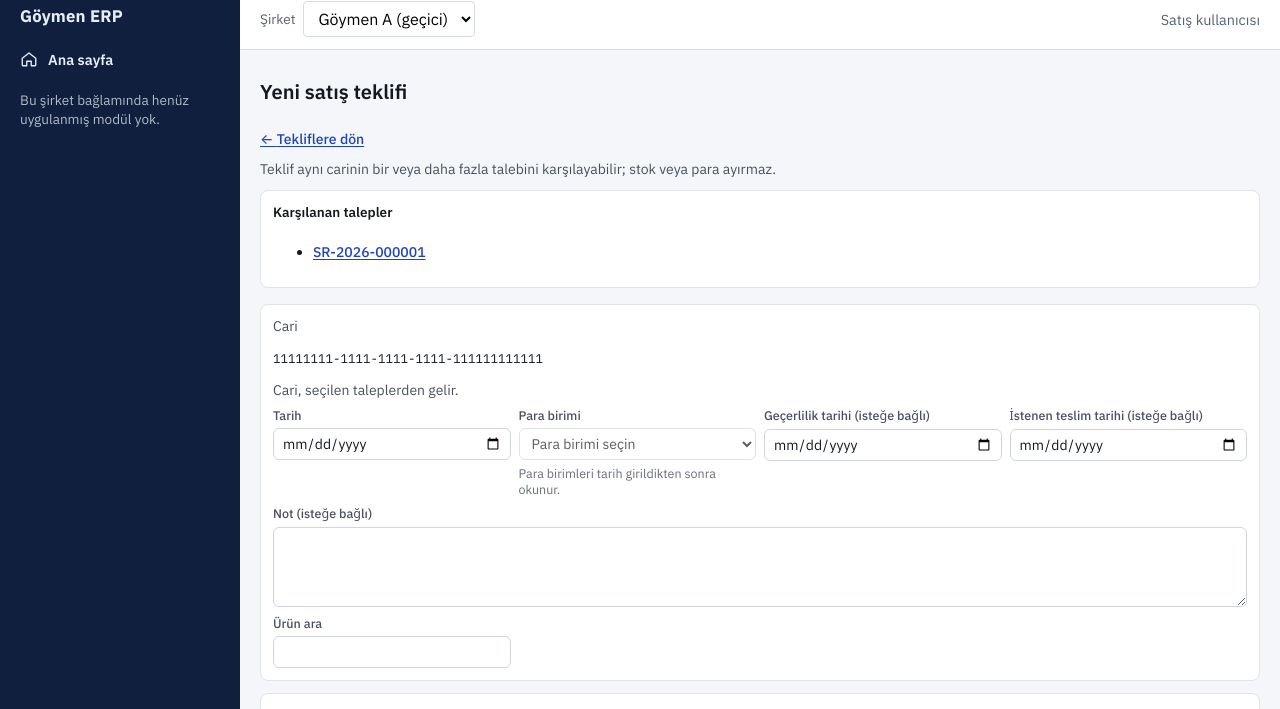
Scenario: Yeni teklif › covers the chosen request: its lines are copied, the customer is fixed, prices are added and requestIds sent
The image size is (1280, 709).
Expected: the list with test id "pool-quote-covered-requests" is shown, [313,243,426,261]
Step 1. Type "2026-10-22" into the date field labelled "Tarih" → (392, 444), box [273,428,510,460]
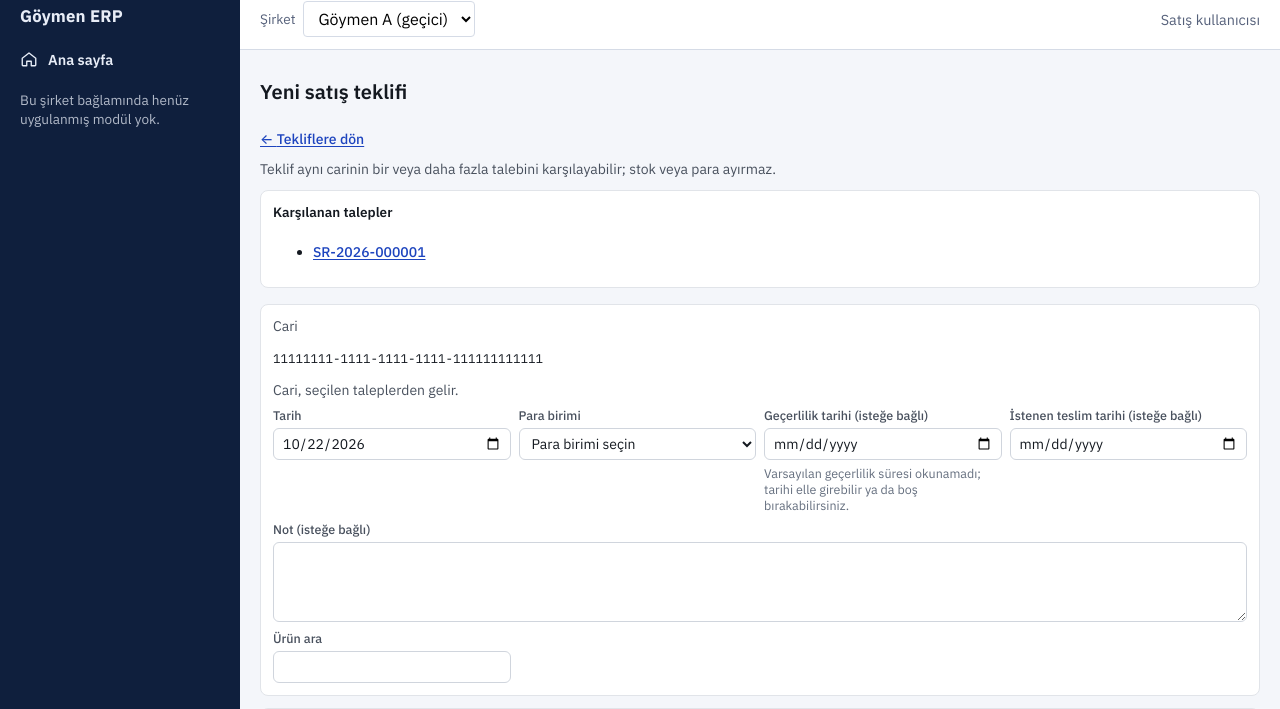
Step 2. Select "TRY" in the dropdown labelled "Para birimi" → (637, 444), box [518,428,756,460]
(page scrolled)
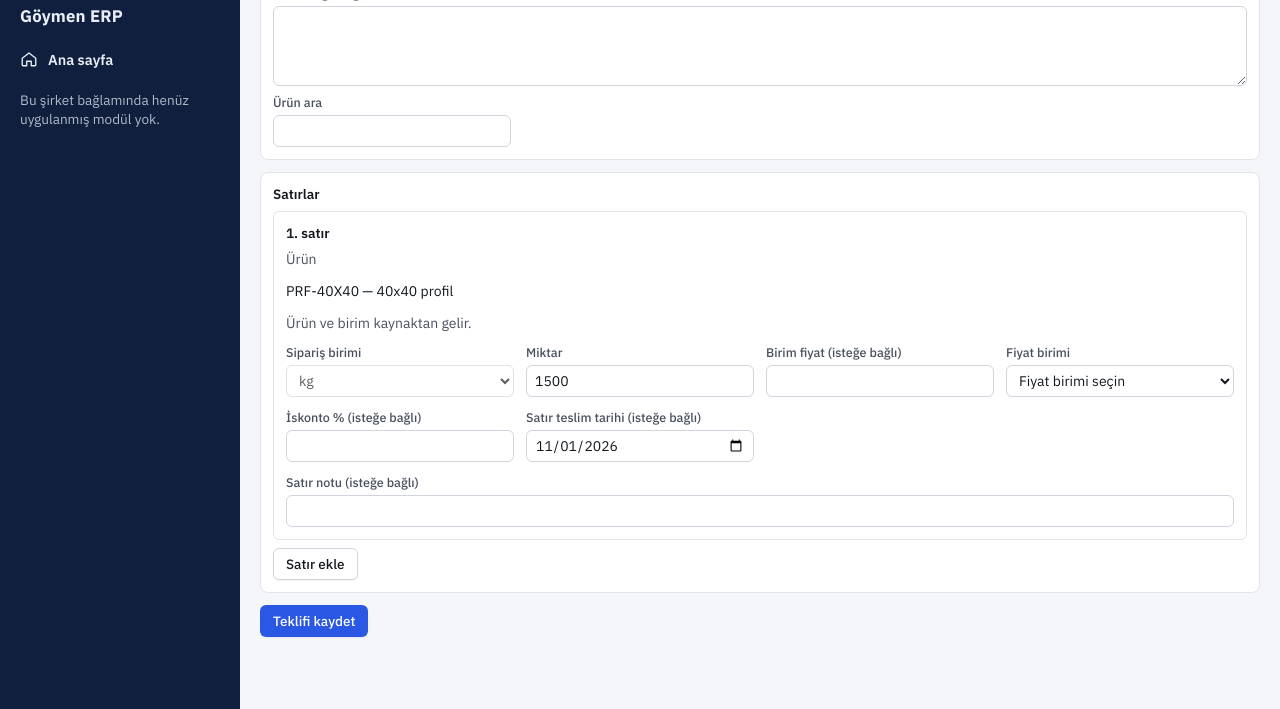
Step 3. Type "42,5" into the field labelled "Birim fiyat (isteğe bağlı)" → (880, 381), box [766,365,994,397]
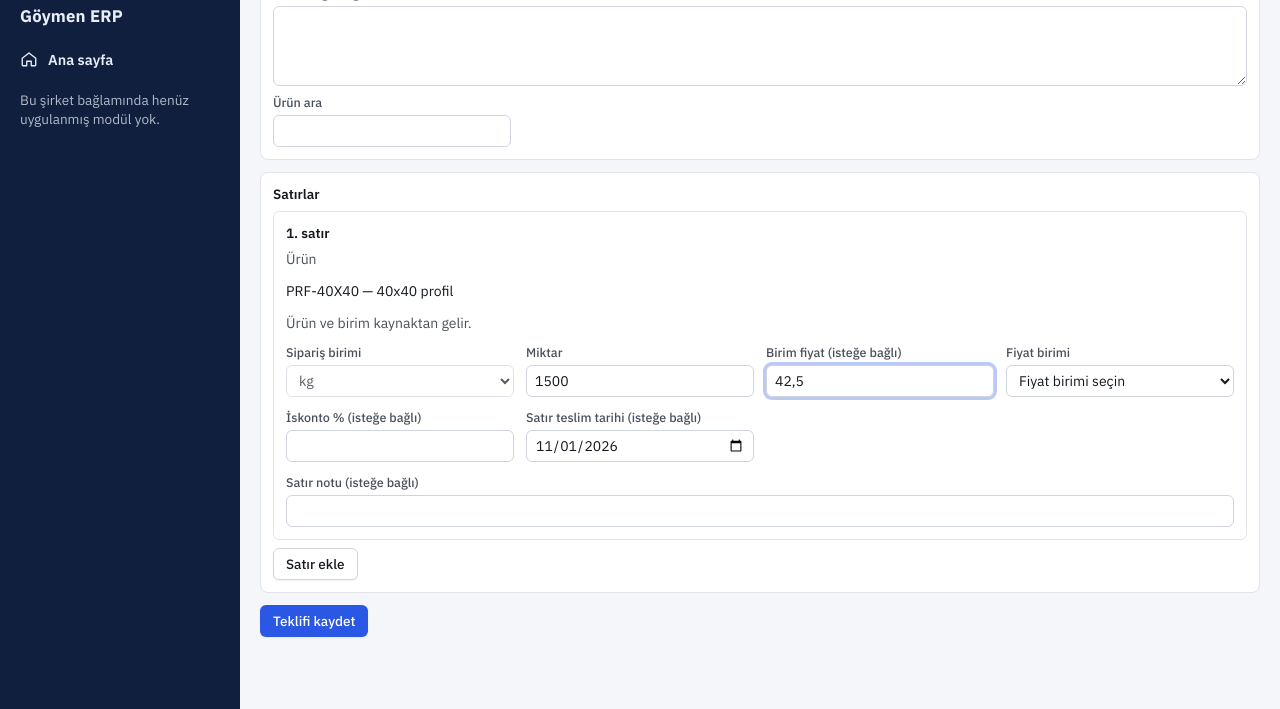
Step 4. Select "kg" in the dropdown labelled "Fiyat birimi" → (1120, 381), box [1006,365,1234,397]
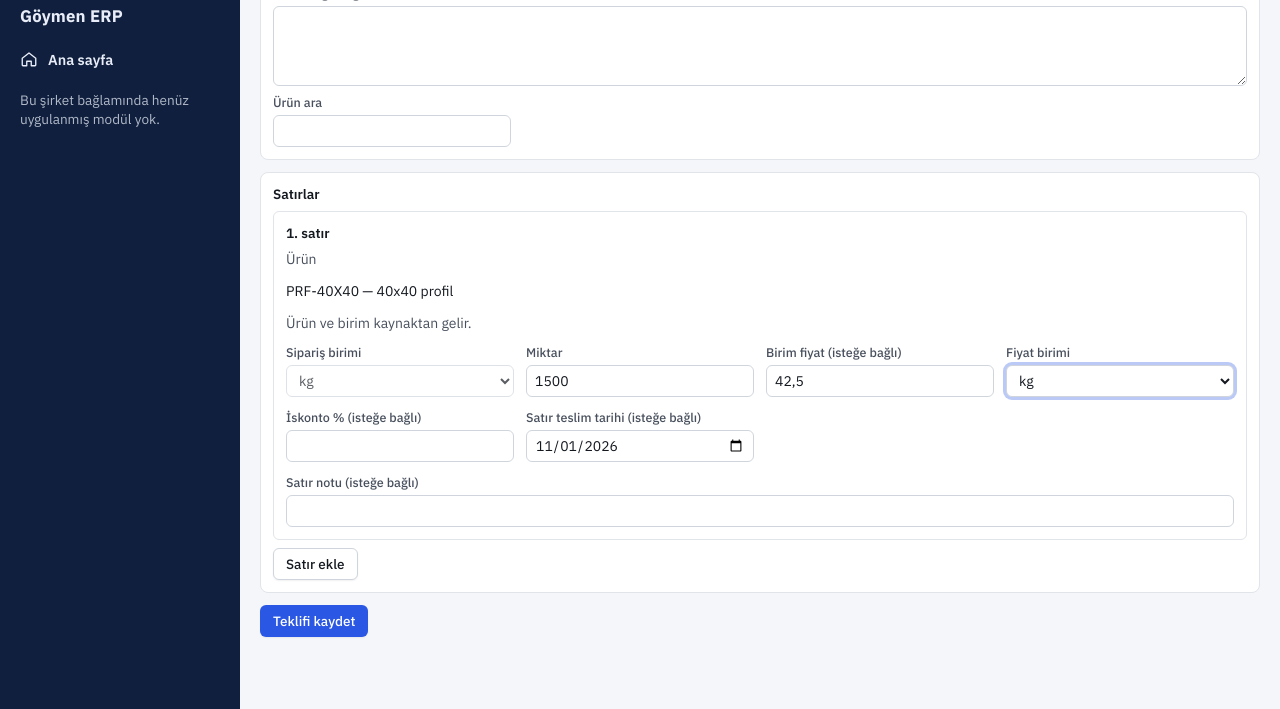
Step 5. Type "150" into the field labelled "İskonto % (isteğe bağlı)" → (400, 446), box [286,430,514,462]
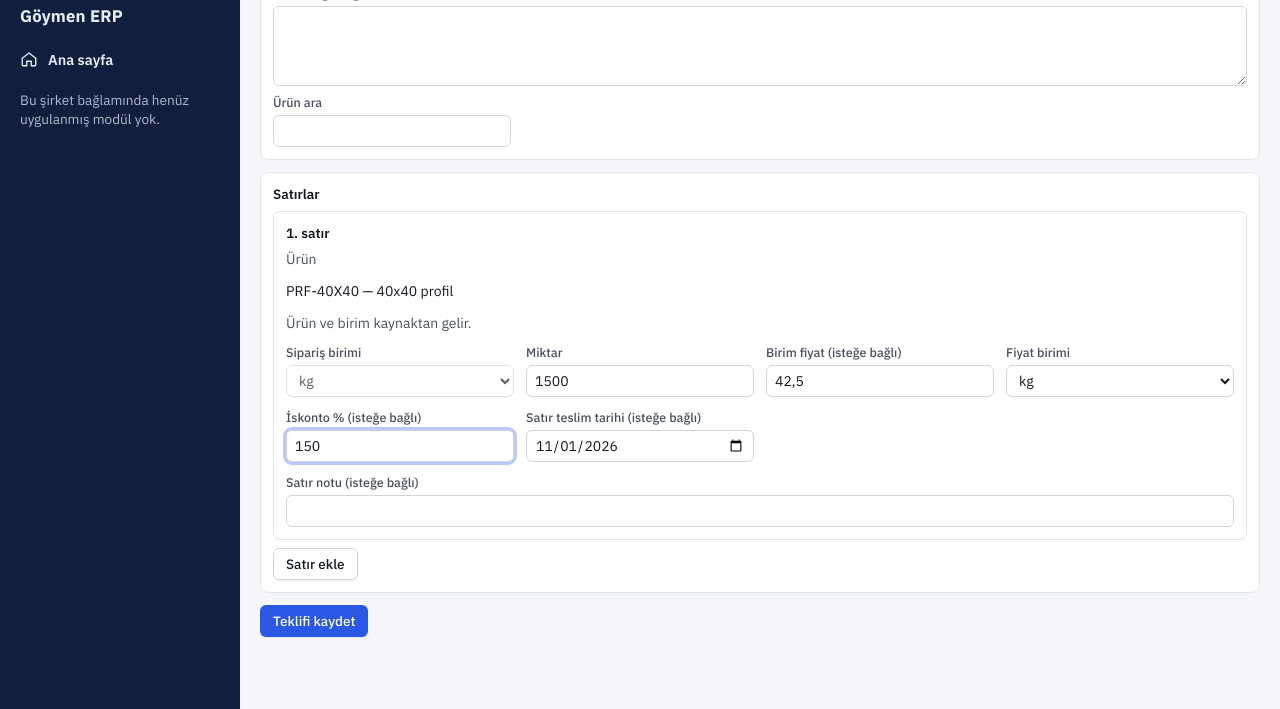
Step 6. Click the button "Teklifi kaydet" → (314, 621), box [260,605,368,637]
(page scrolled)
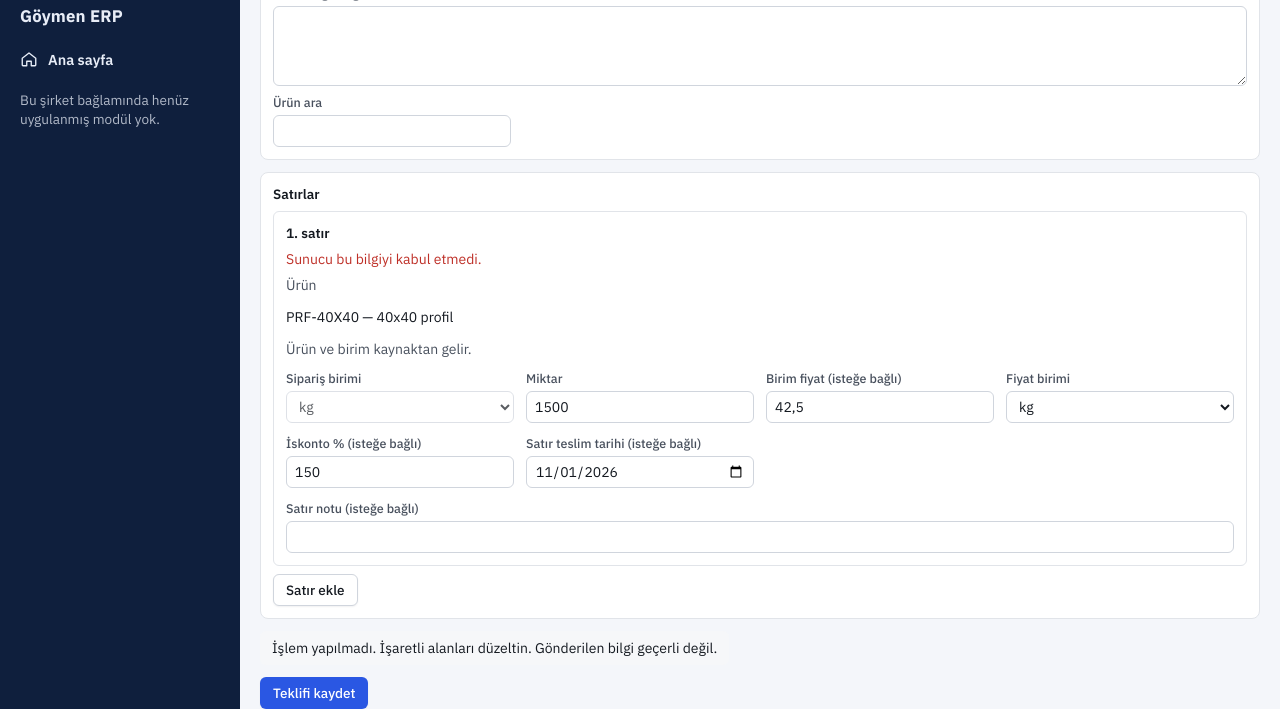
Now the text "Sunucu bu bilgiyi kabul etmedi." is shown, box [286,250,482,268]
